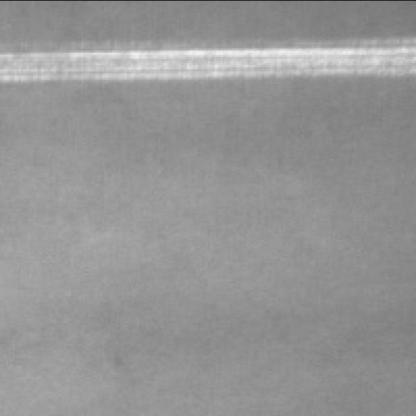scratches: (2, 38, 416, 93)
